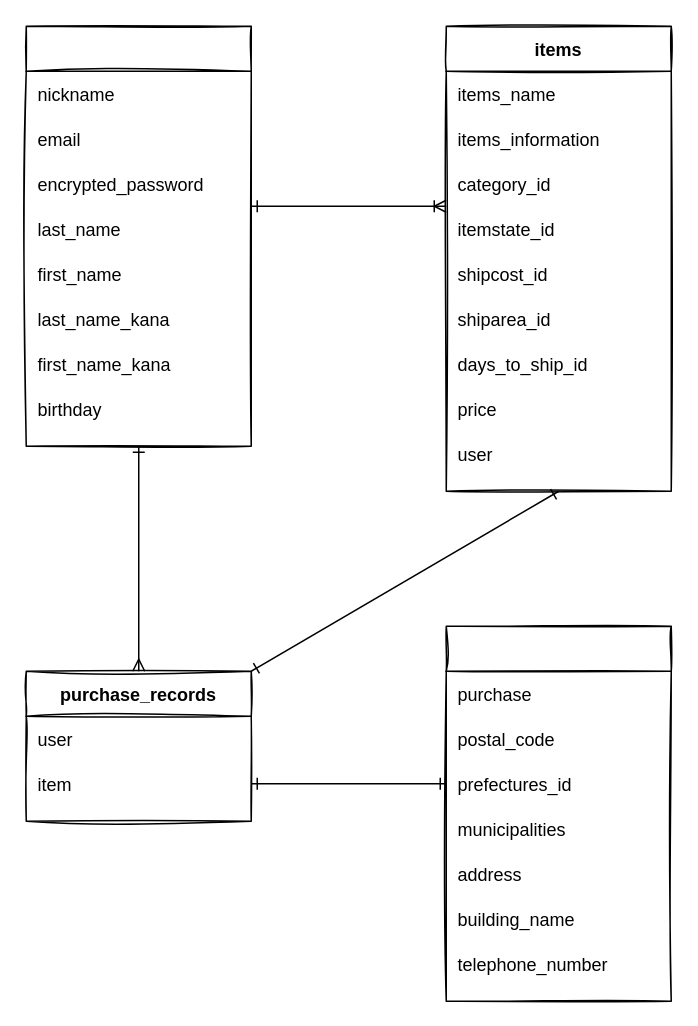
Image size: 698x1026. Some labels were removed from this diagram. The box of each missing label's shape, as (x1, y1, x2, y2) in pixels:
shipping_addresses: (445, 625, 671, 1001)
users: (25, 25, 251, 446)
